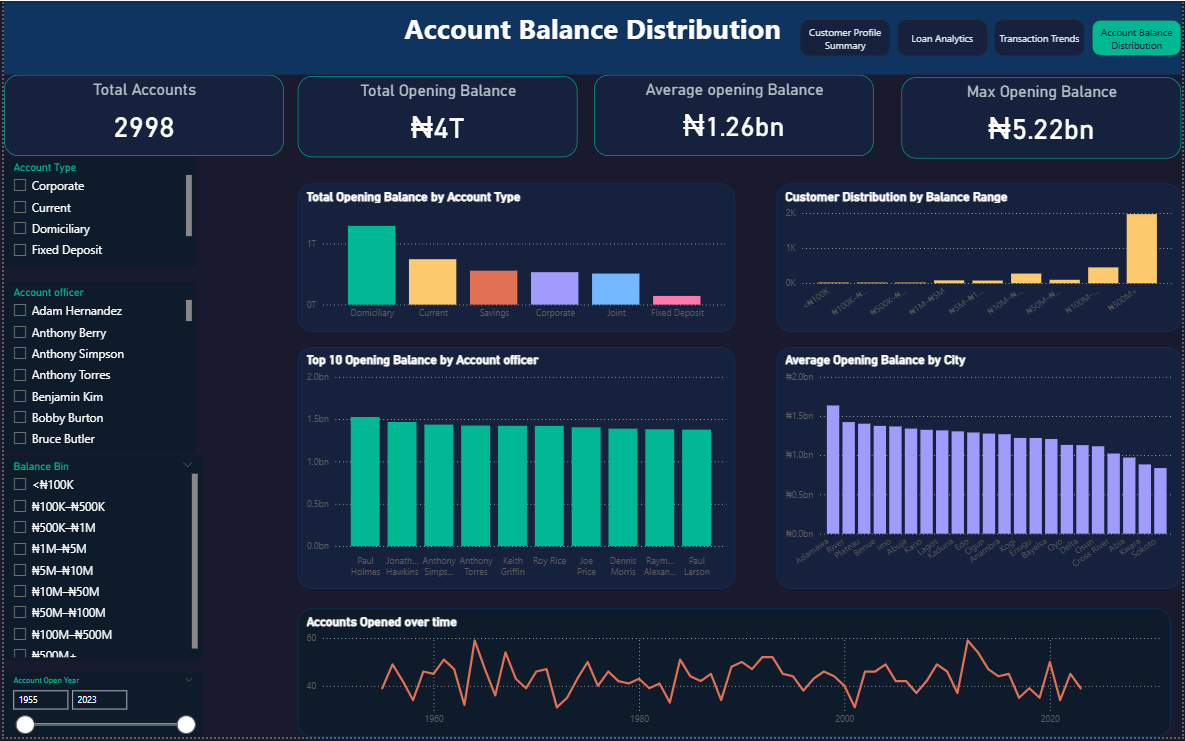

Layout of this report page (visuals, bound fields, positions):
{"tool":"powerbi","page":{"name":"Account Balance Distribution","canvas":[1600,1000],"ordinal":3},"visuals":[{"type":"columnChart","title":"Total Opening Balance by Account Type","fields":{"Category":["Accounts.Account Type"],"Y":["Sum(Accounts.Opening Balance)"]},"box":[399,247.3,594.3,201.6],"z":0},{"type":"clusteredColumnChart","title":"Customer Distribution by Balance Range","fields":{"Category":["Accounts.Balance Bin"],"Y":["CountNonNull(Accounts.Account Number)"]},"box":[1049.4,247.3,550.6,201.6],"z":1000},{"type":"clusteredColumnChart","title":"Top 10 Opening Balance by Account officer","fields":{"Category":["Accounts.Account officer"],"Y":["Avg(Accounts.Opening Balance)"]},"box":[399,469.6,594.3,328.3],"z":2000},{"type":"lineChart","title":"Accounts Opened over time","fields":{"Category":["Accounts.Account Open Year"],"Y":["CountNonNull(Accounts.Account Number)"]},"box":[399,824.9,1186.5,174.5],"z":3000},{"type":"card","title":"Total Accounts","fields":{"Values":["Accounts.Total Accounts"]},"box":[0,99.7,380.3,110.1],"z":4000},{"type":"card","title":"Total Opening Balance","fields":{"Values":["Accounts.Total Opening Balance"]},"box":[399,101.8,380.3,110.1],"z":5000},{"type":"card","title":"Average opening Balance","fields":{"Values":["Accounts.Average Opening Balance"]},"box":[802.1,99.7,380.3,110.1],"z":6000},{"type":"card","title":"Max Opening Balance","fields":{"Values":["Accounts.Max Opening Balance"]},"box":[1219.7,103.9,380.3,110.1],"z":7000},{"type":"columnChart","fields":{"Category":["Customer.City"],"Y":["Accounts.Average Opening Balance"]},"box":[1049.4,469.6,550.6,328.3],"z":8000},{"type":"slicer","fields":{"Values":["Accounts.Account Type"]},"box":[0,212.3,259.9,149.5],"z":9000},{"type":"slicer","fields":{"Values":["Accounts.Account officer"]},"box":[0,382.1,259.9,232.7],"z":10000},{"type":"slicer","fields":{"Values":["Accounts.Account Open Year"]},"box":[0,912,268.3,88.3],"z":11000},{"type":"slicer","fields":{"Values":["Accounts.Balance Bin"]},"box":[0,618.2,268.3,278.5],"z":12000},{"type":"textbox","box":[0,0,1600,100],"z":13000},{"type":"pageNavigator","box":[1081.9,25.5,518,49.3],"z":13001}]}

Visuals, with their boxes in screenshot pixels (x1, y1, x2, y2), scaled from the page's 1600x1000 canvas onto the 1185x741 screenshot:
"Total Opening Balance by Account Type" columnChart: detection(296, 183, 736, 333)
"Customer Distribution by Balance Range" clusteredColumnChart: detection(777, 183, 1184, 333)
"Top 10 Opening Balance by Account officer" clusteredColumnChart: detection(296, 348, 736, 591)
"Accounts Opened over time" lineChart: detection(296, 611, 1174, 740)
"Total Accounts" card: detection(0, 74, 282, 155)
"Total Opening Balance" card: detection(296, 75, 577, 157)
"Average opening Balance" card: detection(594, 74, 876, 155)
"Max Opening Balance" card: detection(903, 77, 1184, 159)
columnChart - Customer.City x Accounts.Average Opening Balance: detection(777, 348, 1184, 591)
slicer - Accounts.Account Type: detection(0, 157, 192, 268)
slicer - Accounts.Account officer: detection(0, 283, 192, 456)
slicer - Accounts.Account Open Year: detection(0, 676, 199, 740)
slicer - Accounts.Balance Bin: detection(0, 458, 199, 664)
textbox: detection(0, 0, 1184, 74)
pageNavigator: detection(801, 19, 1184, 55)
